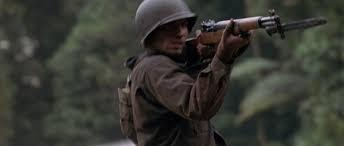rifle: (176, 8, 329, 71)
